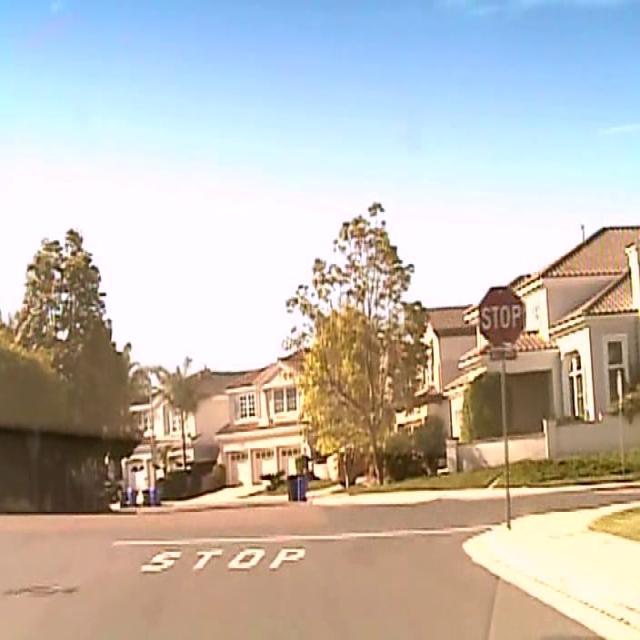stop: (478, 285, 526, 348)
